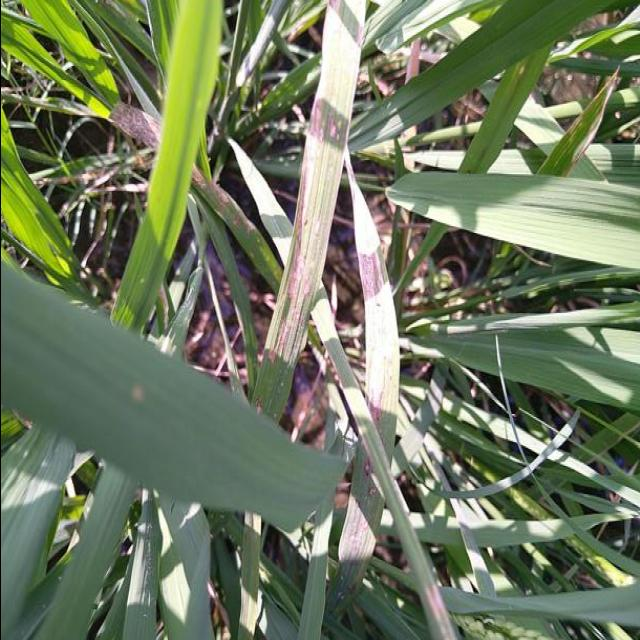Leaf Blight: (541, 76, 613, 174)
Leaf Streak: (260, 0, 365, 368), (344, 152, 398, 462), (191, 164, 279, 298), (337, 445, 382, 599), (238, 512, 261, 634), (448, 500, 486, 573), (108, 104, 159, 150), (419, 585, 457, 640), (249, 396, 269, 417)
